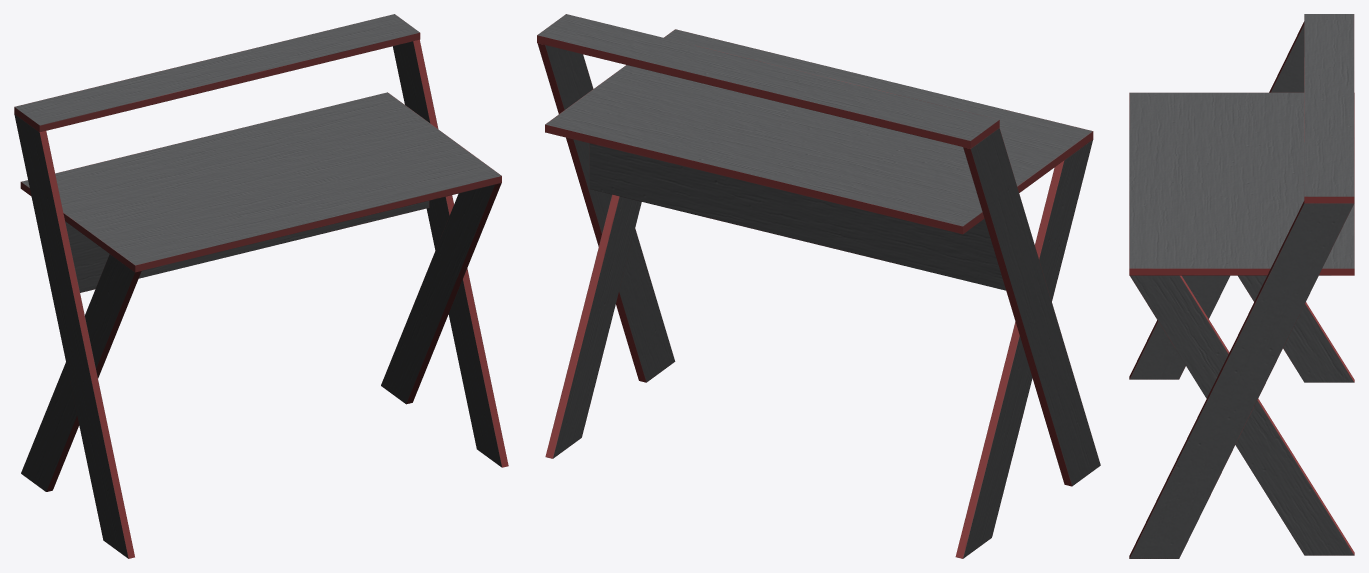
The picture shows the model from 3 angles, left to right: view 1: azimuth 30°, elevation 25°; view 2: azimuth 150°, elevation 25°; view 3: azimuth 270°, elevation 25°; orthographic projection. The views are drawn at different scales.
Parts seen in each view (by area): view 1: Stol; view 2: Stol; view 3: Stol.
Part boxes in pixels (<box>): Stol: <box>14,14,508,558</box>; Stol: <box>537,14,1100,558</box>; Stol: <box>1129,14,1354,558</box>.
Size of the model in its own units: 1.04 by 0.9596 by 0.54.
1 material, 1 textured.
